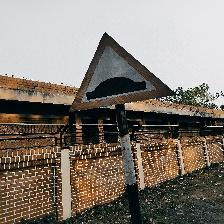Speed-breaker: (72, 30, 176, 113)
